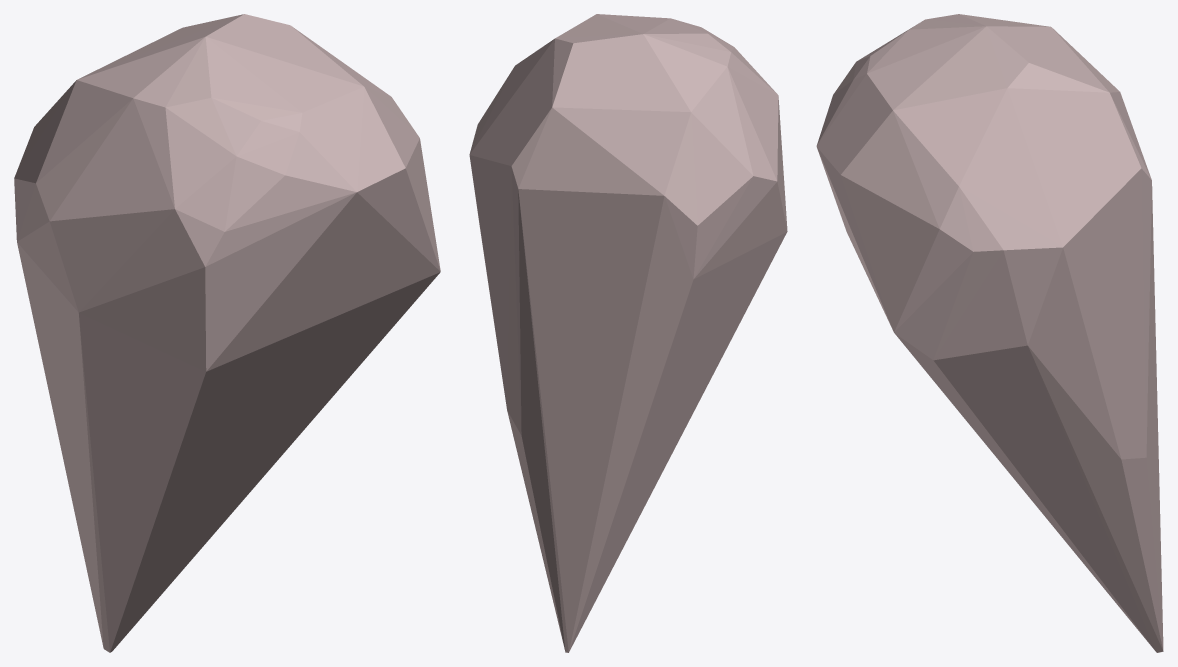
File: food_produce_pear_k01.glb
The picture shows the model from 3 angles, left to right: view 1: azimuth 30°, elevation 25°; view 2: azimuth 150°, elevation 25°; view 3: azimuth 270°, elevation 25°; orthographic projection. The views are drawn at different scales.
Visible parts, largest first — view 1: geometry_0; view 2: geometry_0; view 3: geometry_0.
Boxes of the visible parts, x1,y1,x2,y2 form: geometry_0: (14,14,440,652); geometry_0: (469,14,787,652); geometry_0: (816,14,1163,652).
Bounding box in the file's own units: 0.2603 × 0.479 × 0.24.
